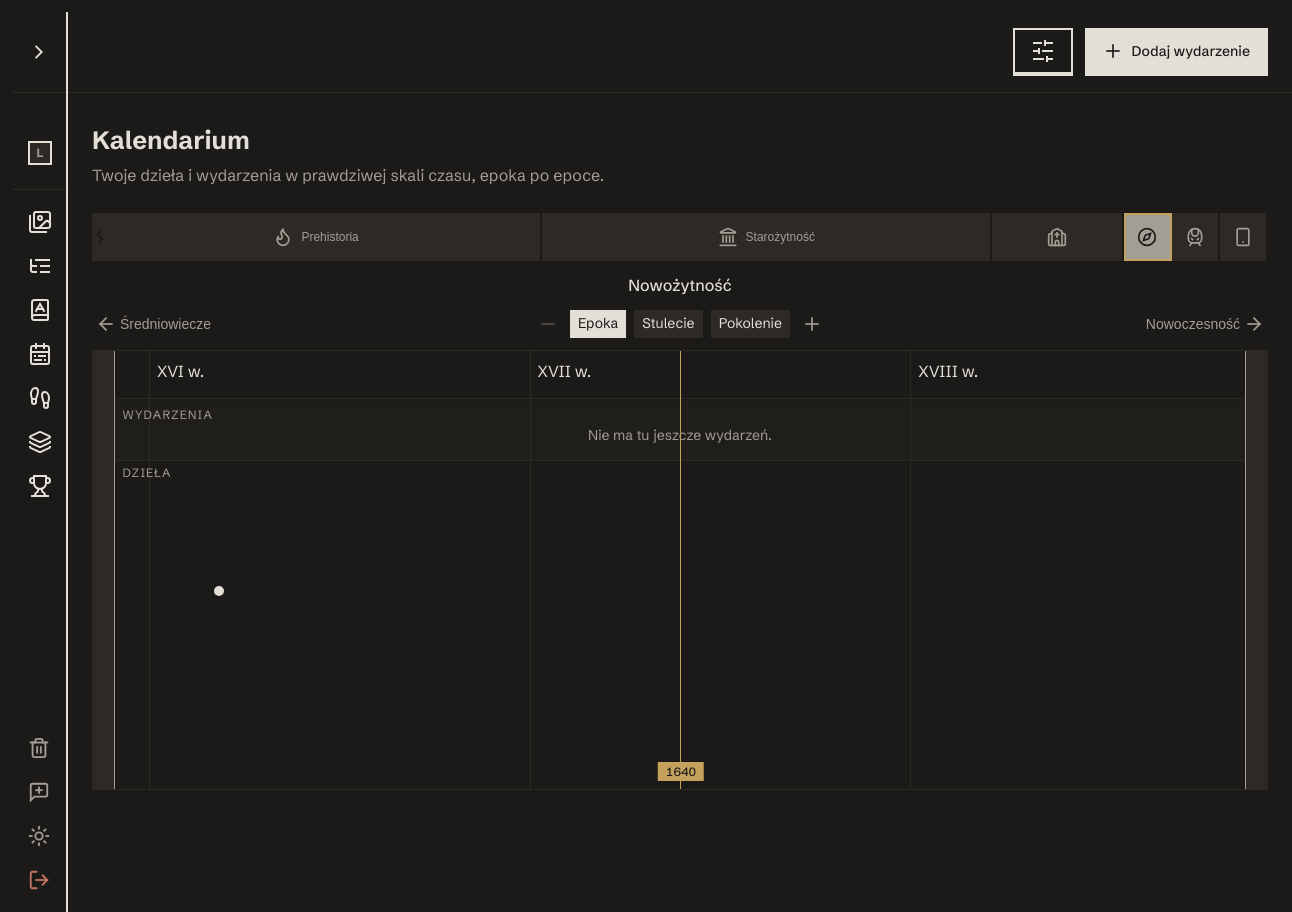
Test: timeline page › opens the next era and remembers it
Click the button "Nowoczesność": (1205, 324) [1142,310,1268,338]
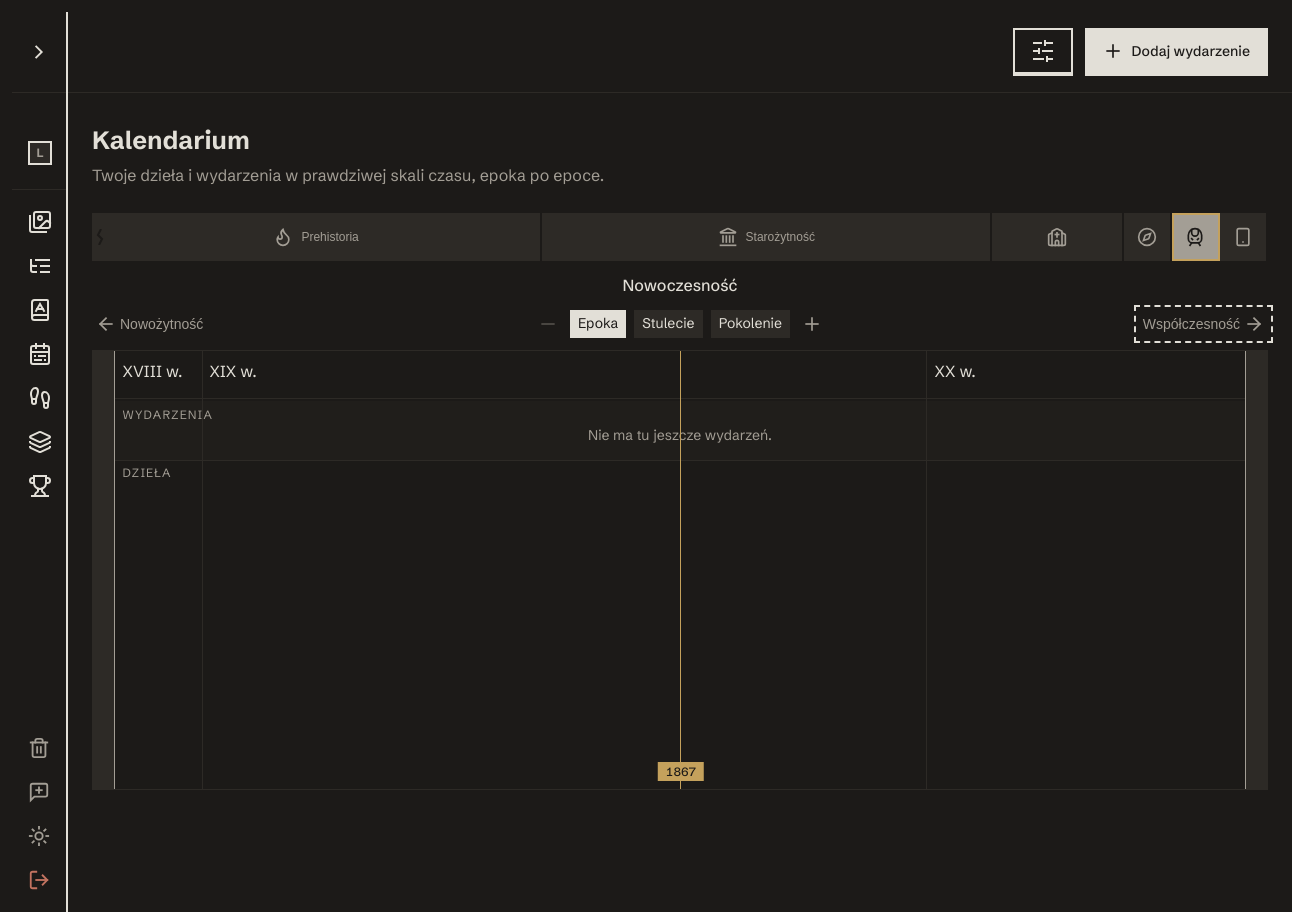
Expected: the text "Nowoczesność" is shown, [622,273,738,298]
